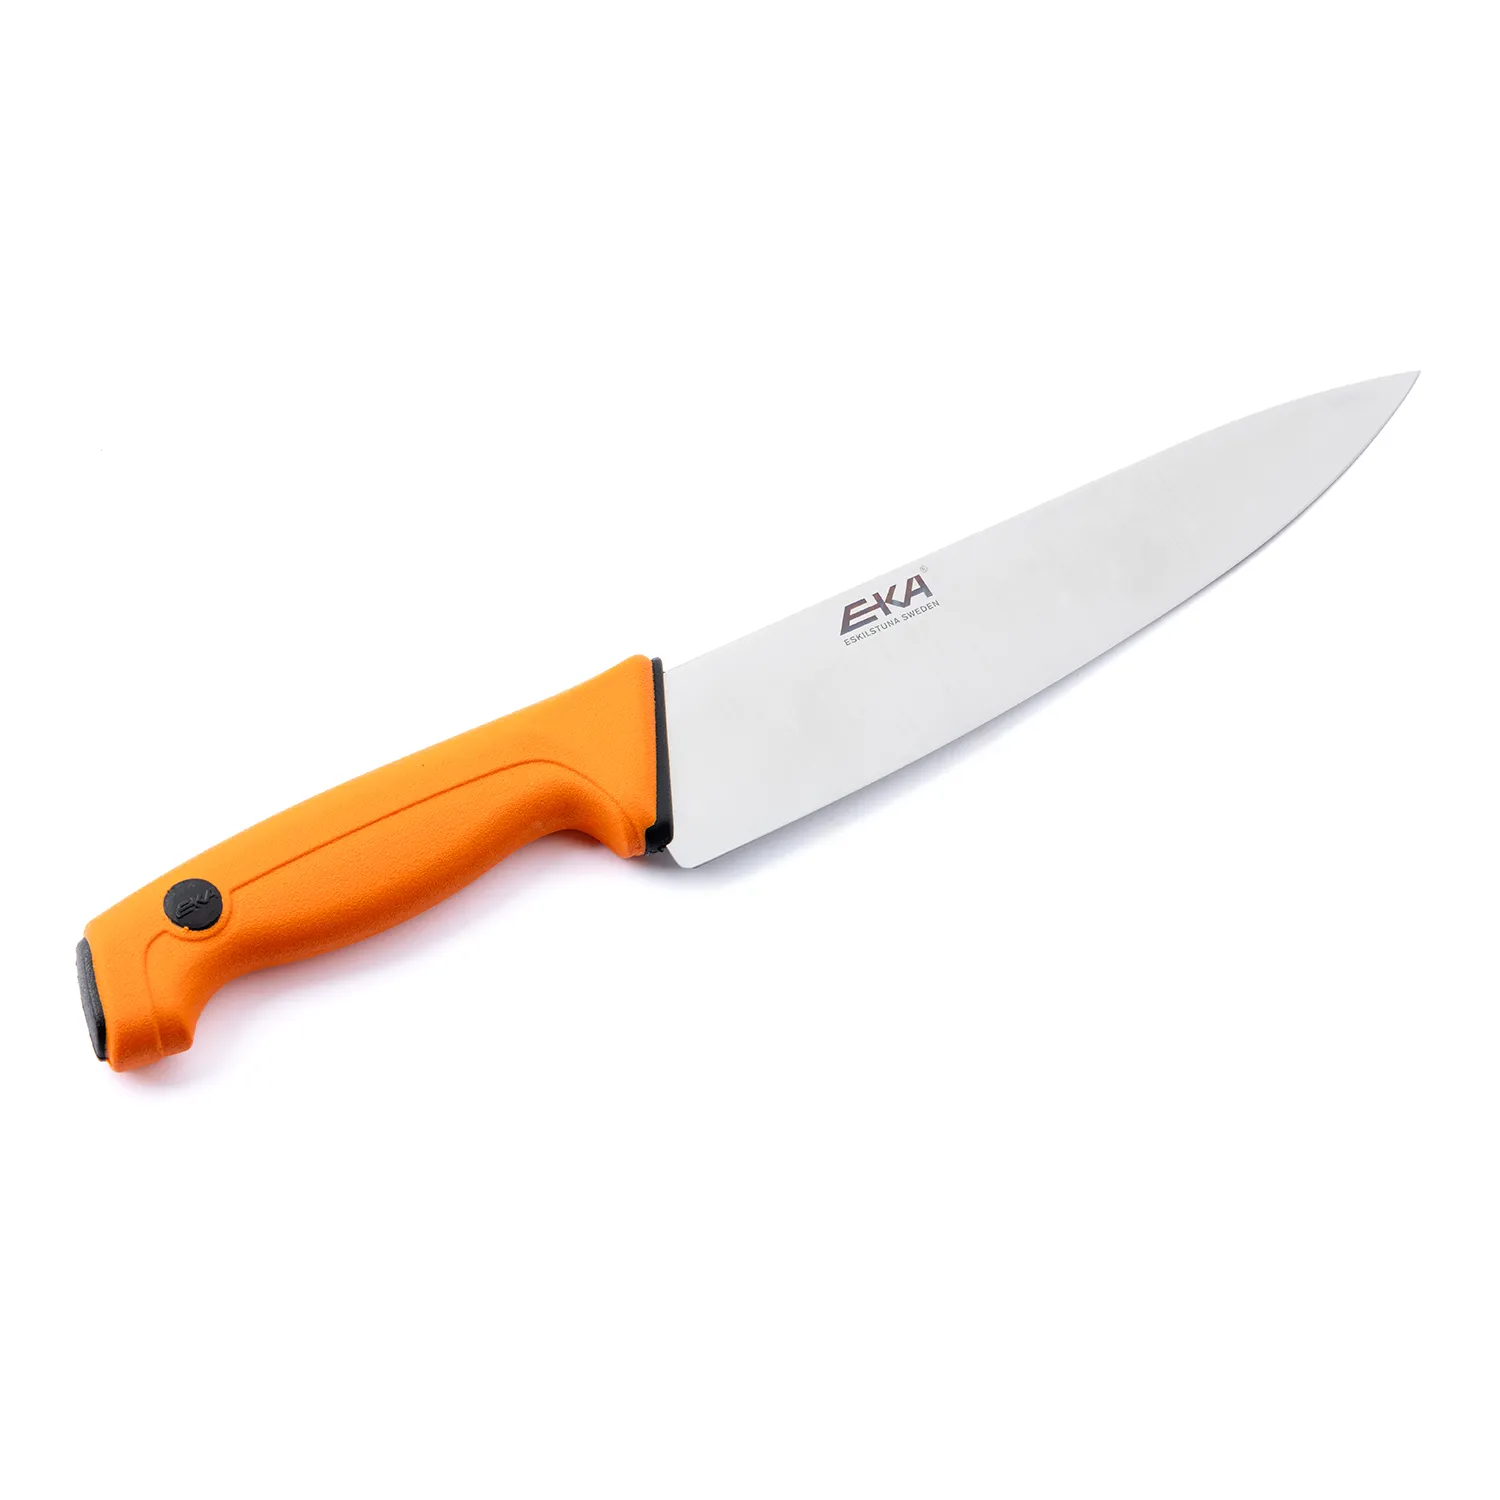knife: (69, 352, 1427, 1076)
